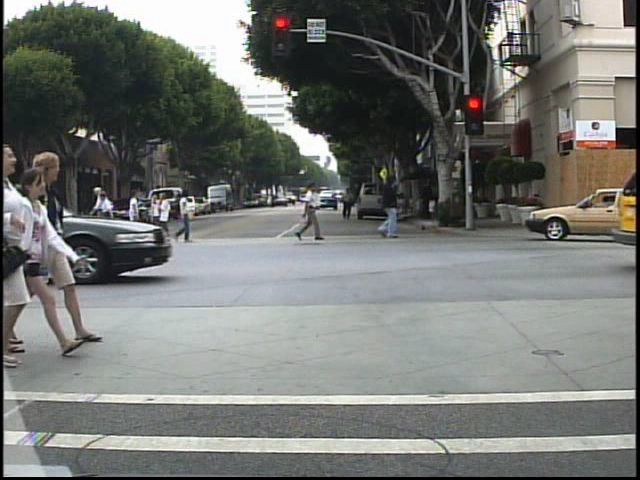person: (30, 145, 87, 349), (7, 163, 59, 364), (369, 169, 402, 242), (298, 177, 329, 242), (99, 187, 123, 246), (174, 188, 197, 246), (90, 182, 107, 246), (122, 189, 148, 225), (340, 184, 356, 220)
